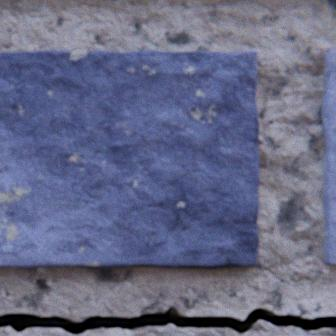brick: (0, 51, 257, 269), (320, 52, 335, 265)
crack: (0, 306, 335, 335)
